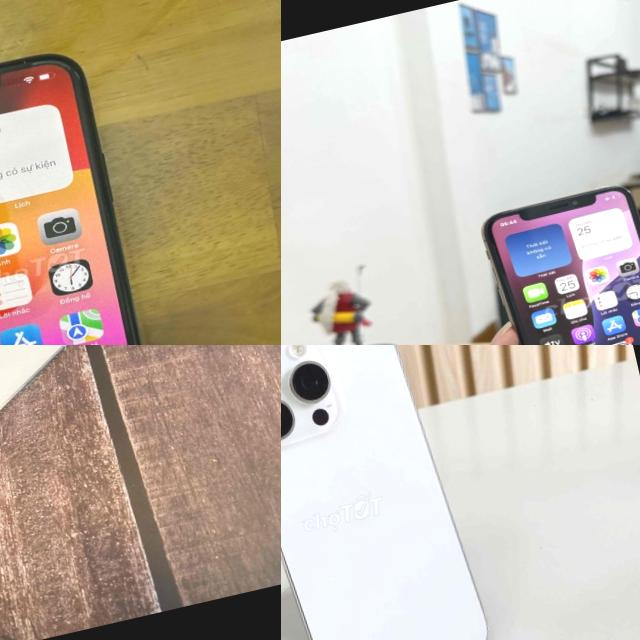gen_11: (0, 26, 203, 345)
gen_16: (281, 345, 504, 640)
gen_x_xs: (475, 174, 640, 345)
